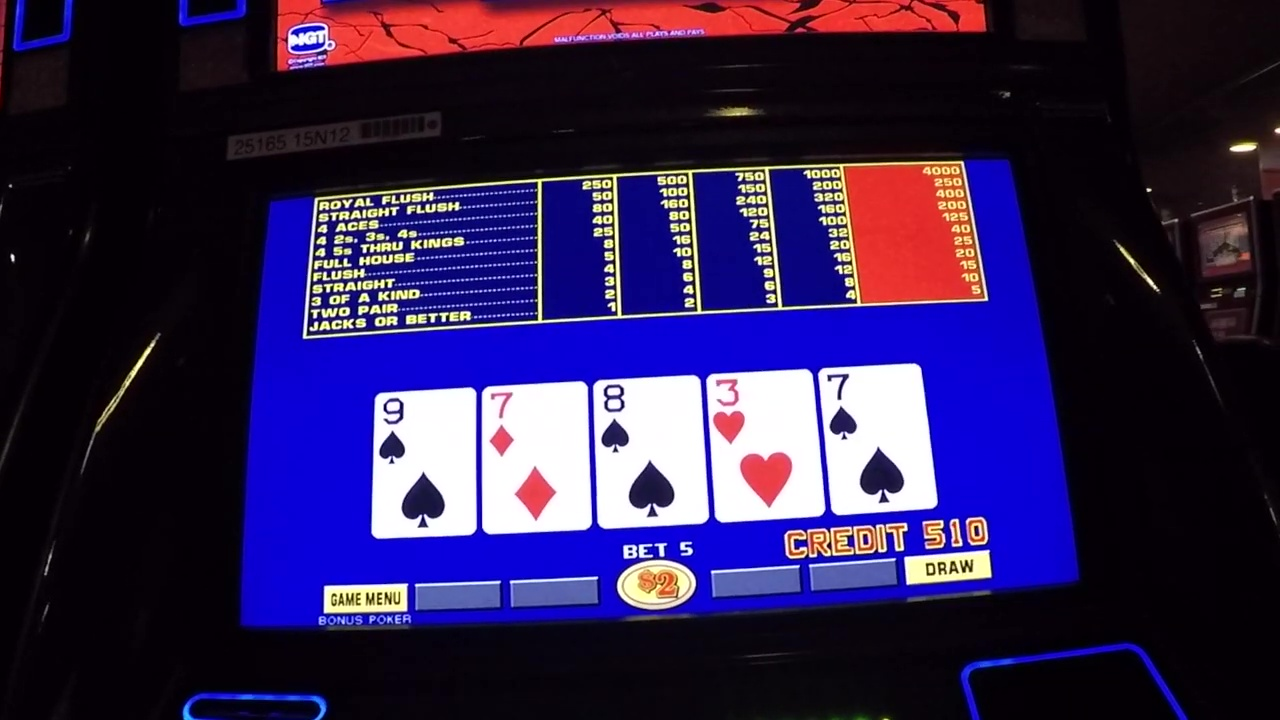D7: (482, 384, 587, 461)
H3: (711, 374, 815, 443)
S7: (829, 367, 925, 450)
S8: (597, 378, 695, 455)
S9: (378, 394, 476, 464)
